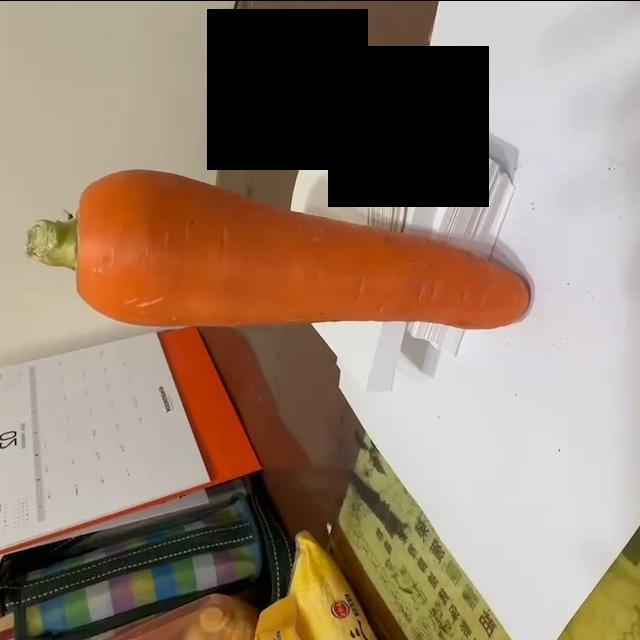carrot: (26, 165, 534, 343)
